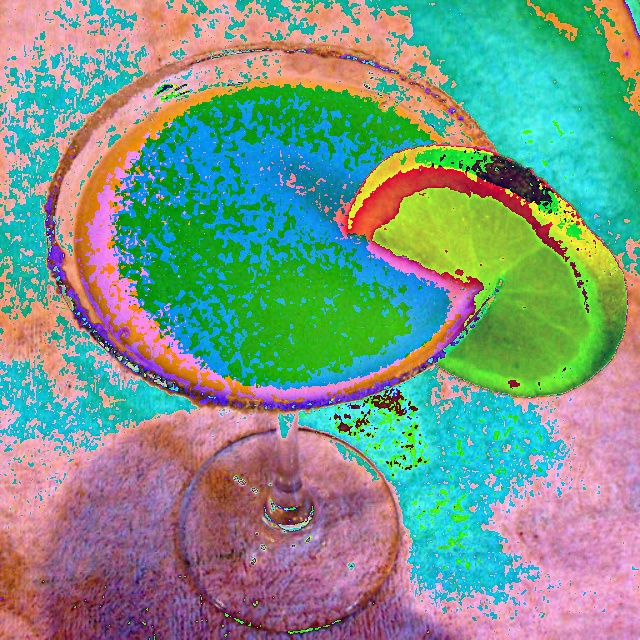background: (70, 78, 629, 401)
